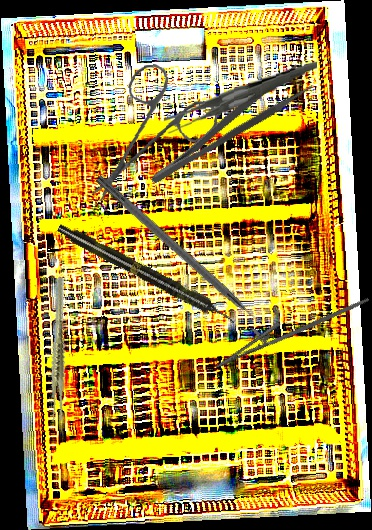Dressing Forceps: (138, 61, 316, 190), (160, 60, 322, 135)
Handpiece: (54, 220, 239, 329)
Hook Surgical: (93, 173, 276, 339)
Iris Scissors: (79, 58, 225, 202)
Needle Holder: (208, 268, 370, 388)
Tissue Forceps: (26, 275, 92, 425)
